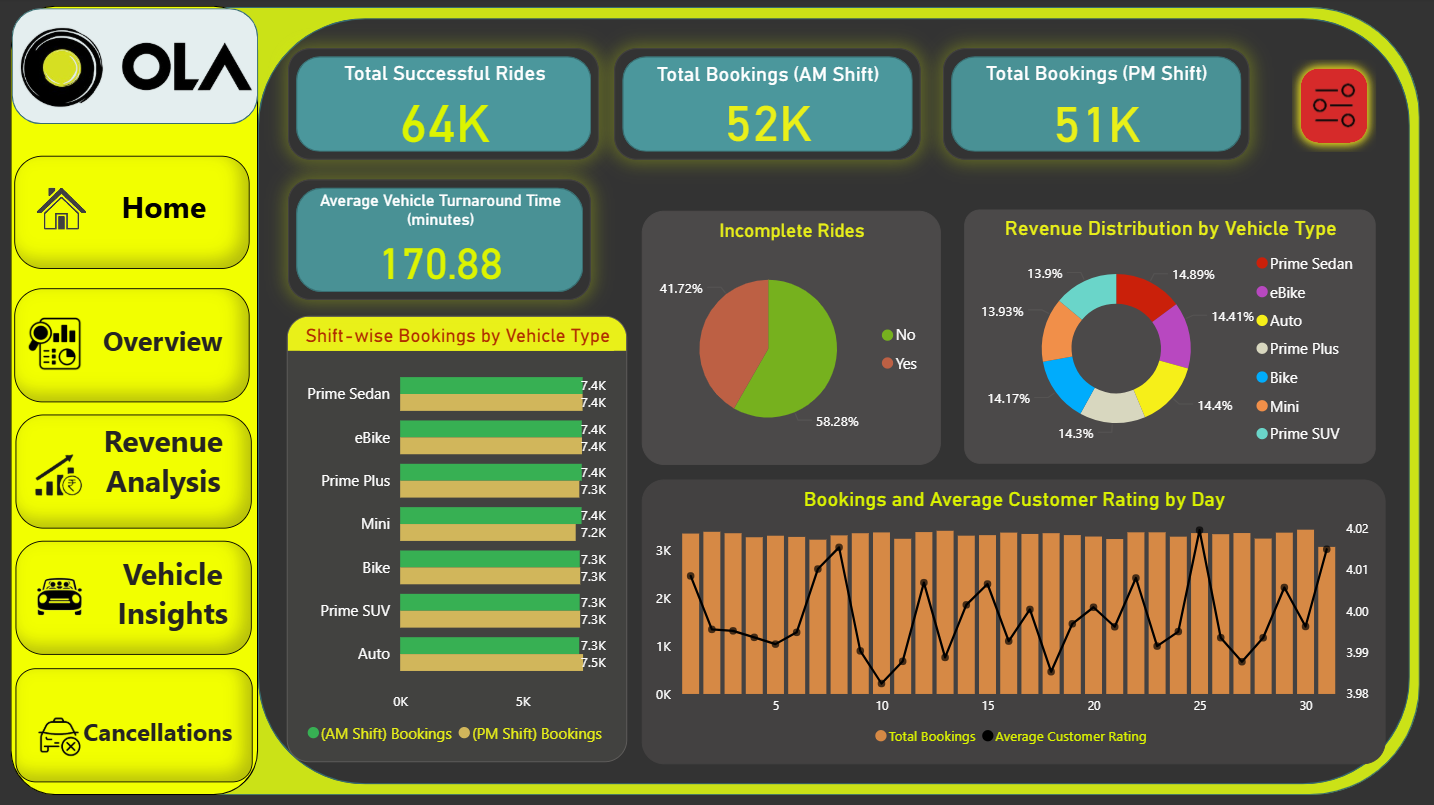

Layout of this report page (visuals, bound fields, positions):
{"tool":"powerbi","page":{"name":"Vehicle Insights","canvas":[1280,720],"ordinal":3},"visuals":[{"type":"shape","box":[12.3,8.6,1254,701.8],"z":0},{"type":"group","id":"g1","title":"Group 3","box":[258,46,278.9,99],"z":0,"group":"g4"},{"type":"shape","box":[258,46,276.9,99],"z":0,"group":"g1"},{"type":"shape","box":[549,46,272.7,99],"z":0,"group":"g2"},{"type":"shape","box":[841.4,46,272.7,99],"z":0,"group":"g3"},{"type":"shape","box":[231.9,18.4,1025.8,682.2],"z":1000},{"type":"group","id":"g2","title":"Group 1","box":[549,46,273.4,99],"z":1000,"group":"g4"},{"type":"card","title":"Total Successful Rides","fields":{"Values":["Booking.Total Successful Rides"]},"box":[259.5,57.1,277.5,80.9],"z":1000,"group":"g1"},{"type":"card","title":"Total Bookings (PM Shift)","fields":{"Values":["Booking.after 12Am"]},"box":[841.1,57.1,273.3,82.3],"z":1000,"group":"g3"},{"type":"card","title":"Total Bookings (AM Shift)","fields":{"Values":["Booking.before 12"]},"box":[549.1,58.5,273.3,78.1],"z":1000,"group":"g2"},{"type":"group","id":"g3","title":"Group 2","box":[841.1,46,273.3,99],"z":2000,"group":"g4"},{"type":"lineStackedColumnComboChart","title":"Bookings and Average Customer Rating by Day","fields":{"Category":["Booking.Date.Variation.Date Hierarchy.Day"],"Y2":["Avg(Booking.Customer_Rating)"],"Y":["CountNonNull(Booking.Booking_ID)"]},"box":[573,429.5,662.6,254],"z":2000},{"type":"shape","box":[258.8,162.8,269.9,107.1],"z":3000},{"type":"card","title":"Average Vehicle Turnaround Time (minutes)","fields":{"Values":["Avg(Booking.V_TAT)"]},"box":[260.2,172.5,267.1,89],"z":4000},{"type":"clusteredBarChart","title":"Shift-wise Bookings by Vehicle Type","fields":{"Category":["Booking.Vehicle_Type"],"Y":["Booking.before 12","Booking.after 12Am"]},"box":[257.4,283.8,303.3,397.9],"z":5000},{"type":"donutChart","title":"Revenue Distribution by Vehicle Type","fields":{"Category":["Booking.Vehicle_Type"],"Y":["Sum(Booking.Booking_Value)"]},"box":[860.4,189.4,366.4,226.4],"z":6000},{"type":"pieChart","title":"Incomplete Rides","fields":{"Y":["CountNonNull(Booking.Booking_ID)"],"Category":["Booking.Incomplete_Ride"]},"box":[573.6,190.7,266.2,226.4],"z":7000},{"type":"actionButton","box":[1151.7,55.8,75.3,82.3],"z":8000},{"type":"group","id":"g4","title":"kpi card","box":[258,46,856.4,99],"z":9000},{"type":"shape","box":[11.6,8.3,220.5,703],"z":10000},{"type":"shape","box":[12.7,9.7,219.4,103.2],"z":11000},{"type":"image","box":[13.9,11,218.2,103.2],"z":12000},{"type":"image","box":[20.9,371.5,62.6,101.6],"z":13000},{"type":"textbox","box":[73,371.4,147.4,84.6],"z":14000},{"type":"actionButton","box":[15.3,371.5,210.1,101.6],"z":15000},{"type":"image","box":[20.9,257.4,58.4,103],"z":16000},{"type":"textbox","box":[72.3,285.2,148.9,55.7],"z":17000},{"type":"actionButton","box":[14.7,258.9,209.8,101.8],"z":18000},{"type":"textbox","box":[89.6,490.2,130.8,86.8],"z":19000},{"type":"image","box":[23.5,483,61.9,102.7],"z":20000},{"type":"actionButton","box":[15.3,484.2,210.1,101.6],"z":21000},{"type":"image","box":[25.3,608.3,57,101.6],"z":22000},{"type":"textbox","box":[57,634.4,171.1,50.1],"z":23000},{"type":"actionButton","box":[15.3,598.3,211.5,101.6],"z":24000},{"type":"image","box":[19.5,140.5,75.1,100.2],"z":25000},{"type":"textbox","box":[91.8,164.2,112.7,51.5],"z":26000},{"type":"actionButton","box":[14.7,141.1,209.8,100.6],"z":27000}]}

Visuals, with their boxes in screenshot pixels (x1, y1, x2, y2), scaled from the page's 1280x720 canvas onto the 1434x805 screenshot:
shape: detection(14, 10, 1419, 794)
"Group 3" group: detection(289, 51, 601, 162)
shape: detection(289, 51, 599, 162)
shape: detection(615, 51, 921, 162)
shape: detection(943, 51, 1248, 162)
shape: detection(260, 21, 1409, 783)
"Group 1" group: detection(615, 51, 921, 162)
"Total Successful Rides" card: detection(291, 64, 602, 154)
"Total Bookings (PM Shift)" card: detection(942, 64, 1248, 156)
"Total Bookings (AM Shift)" card: detection(615, 65, 921, 153)
"Group 2" group: detection(942, 51, 1248, 162)
"Bookings and Average Customer Rating by Day" lineStackedColumnComboChart: detection(642, 480, 1384, 764)
shape: detection(290, 182, 592, 302)
"Average Vehicle Turnaround Time (minutes)" card: detection(292, 193, 591, 292)
"Shift-wise Bookings by Vehicle Type" clusteredBarChart: detection(288, 317, 628, 762)
"Revenue Distribution by Vehicle Type" donutChart: detection(964, 212, 1374, 465)
"Incomplete Rides" pieChart: detection(643, 213, 941, 466)
actionButton: detection(1290, 62, 1375, 154)
"kpi card" group: detection(289, 51, 1248, 162)
shape: detection(13, 9, 260, 795)
shape: detection(14, 11, 260, 126)
image: detection(16, 12, 260, 128)
image: detection(23, 415, 94, 529)
textbox: detection(82, 415, 247, 510)
actionButton: detection(17, 415, 253, 529)
image: detection(23, 288, 89, 403)
textbox: detection(81, 319, 248, 381)
actionButton: detection(16, 289, 252, 403)
textbox: detection(100, 548, 247, 645)
image: detection(26, 540, 96, 655)
actionButton: detection(17, 541, 253, 655)
image: detection(28, 680, 92, 794)
textbox: detection(64, 709, 256, 765)
actionButton: detection(17, 669, 254, 783)
image: detection(22, 157, 106, 269)
textbox: detection(103, 184, 229, 241)
actionButton: detection(16, 158, 252, 270)
